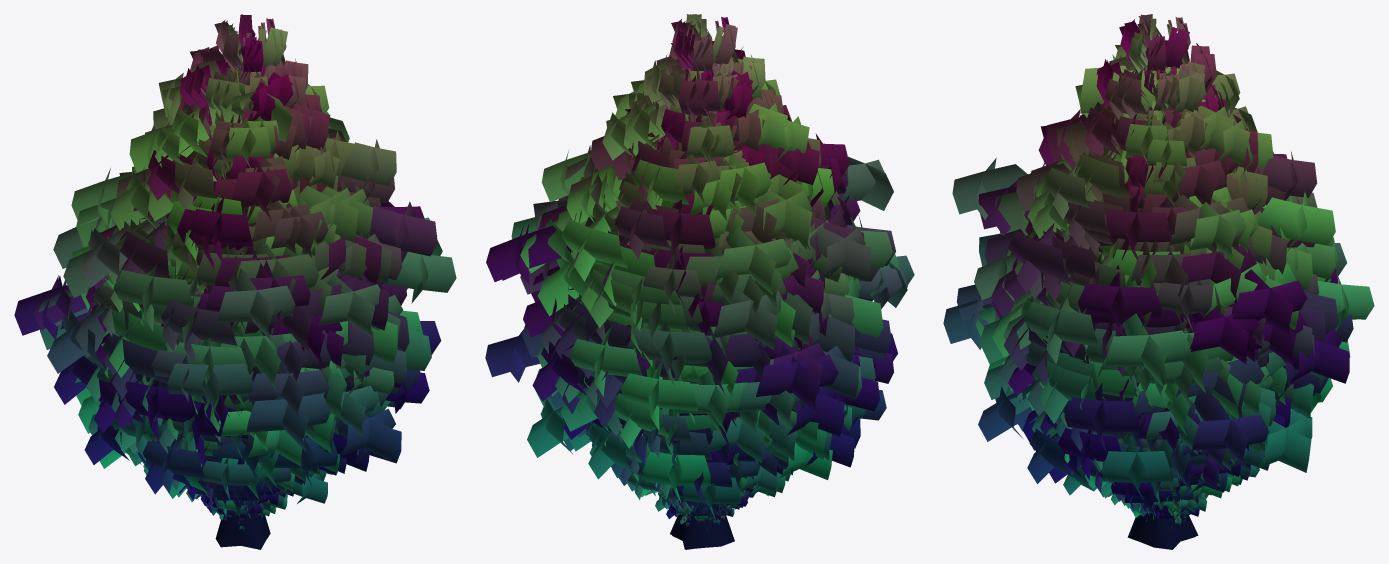
Rendered from trees_poplar.glb.
The picture shows the model from 3 angles, left to right: view 1: azimuth 30°, elevation 25°; view 2: azimuth 150°, elevation 25°; view 3: azimuth 270°, elevation 25°; orthographic projection.
Visible parts, largest first — view 1: poplar_ancient_04_LOD0, poplar_ancient_03_LOD0, poplar_ancient_02_LOD0, poplar_ancient_01_LOD0, poplar_mature_04_LOD0, poplar_mature_03_LOD0, poplar_mature_01_LOD0, poplar_mature_02_LOD0; view 2: poplar_ancient_04_LOD0, poplar_ancient_03_LOD0, poplar_ancient_02_LOD0, poplar_ancient_01_LOD0, poplar_mature_04_LOD0, poplar_mature_01_LOD0, poplar_mature_03_LOD0, poplar_young_02_LOD0, poplar_young_04_LOD0; view 3: poplar_ancient_04_LOD0, poplar_ancient_03_LOD0, poplar_ancient_02_LOD0, poplar_ancient_01_LOD0, poplar_mature_02_LOD0, poplar_mature_04_LOD0, poplar_mature_03_LOD0, poplar_young_03_LOD0, poplar_mature_01_LOD0.
Boxes of the visible parts, x1,y1,x2,y2 form: poplar_ancient_04_LOD0: (14, 14, 456, 549); poplar_ancient_03_LOD0: (40, 59, 409, 500); poplar_ancient_02_LOD0: (33, 111, 429, 498); poplar_ancient_01_LOD0: (115, 178, 401, 511); poplar_mature_04_LOD0: (143, 413, 365, 509); poplar_mature_03_LOD0: (129, 440, 327, 505); poplar_mature_01_LOD0: (177, 473, 301, 509); poplar_mature_02_LOD0: (171, 466, 320, 507); poplar_ancient_04_LOD0: (486, 14, 914, 549); poplar_ancient_03_LOD0: (485, 58, 900, 549); poplar_ancient_02_LOD0: (520, 114, 907, 519); poplar_ancient_01_LOD0: (572, 237, 851, 503); poplar_mature_04_LOD0: (592, 410, 802, 492); poplar_mature_01_LOD0: (612, 457, 768, 511); poplar_mature_03_LOD0: (620, 427, 783, 504); poplar_young_02_LOD0: (658, 484, 755, 520); poplar_young_04_LOD0: (653, 484, 744, 520); poplar_ancient_04_LOD0: (943, 14, 1353, 549); poplar_ancient_03_LOD0: (956, 59, 1374, 549); poplar_ancient_02_LOD0: (984, 106, 1350, 490); poplar_ancient_01_LOD0: (994, 177, 1293, 494); poplar_mature_02_LOD0: (1079, 447, 1240, 509); poplar_mature_04_LOD0: (1054, 408, 1291, 514); poplar_mature_03_LOD0: (1063, 438, 1242, 511); poplar_young_03_LOD0: (1107, 491, 1207, 516); poplar_mature_01_LOD0: (1088, 465, 1259, 510).
Size of what is drawn, in the model's own units: 18.55 by 24.62 by 18.73.
